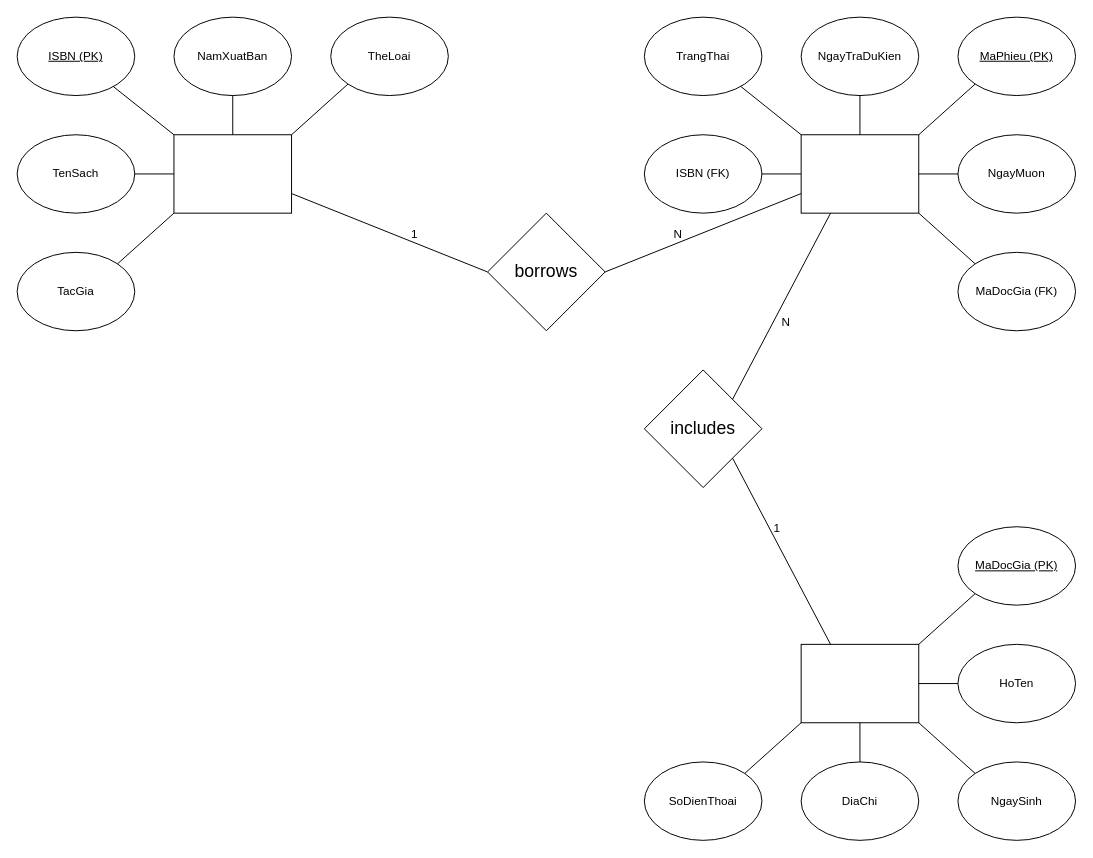
The diagram is 1093 pixels wide and 858 high, and some of its shapes have lost their labels. The shapes that lost their labels are listed below. From the top down, each one's centre as x and y in pixels, then its label:
point 232,173: SACH
point 859,173: PHIEUMUON
point 859,683: DOCGIA
